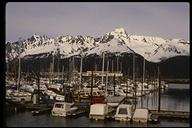boat: (50, 100, 85, 118), (87, 104, 114, 121), (131, 106, 155, 124), (113, 103, 133, 122)
mountain: (9, 26, 185, 56)
snow: (8, 4, 186, 28), (128, 38, 165, 51)
water: (9, 107, 95, 125), (163, 86, 188, 109)
